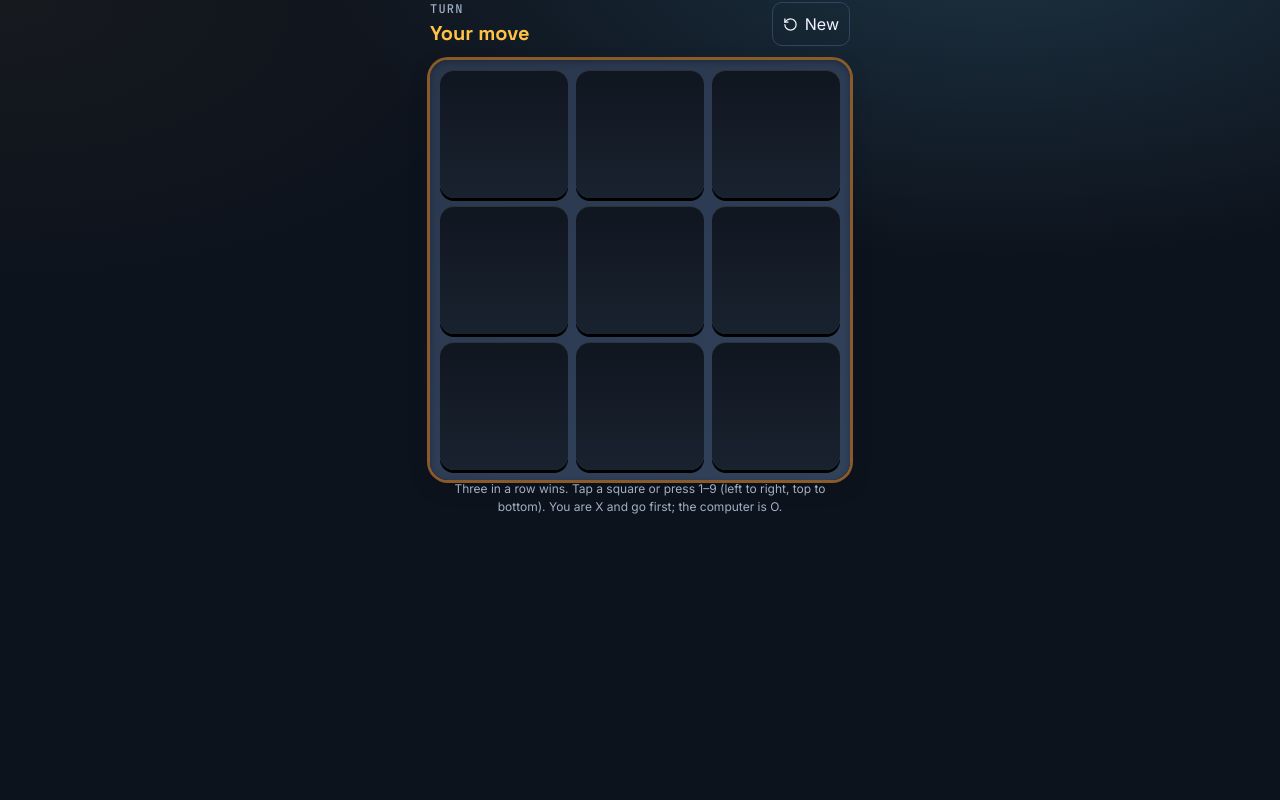
Scenario: Tic-Tac-Toe component › reports a finished game exactly once and "Play again" starts clean
This screenshot has width=1280, height=800.
Click the button named "Row 1, column 1, empty". click: (504, 134)
box: [440,70,568,198]
Wait 400 ms
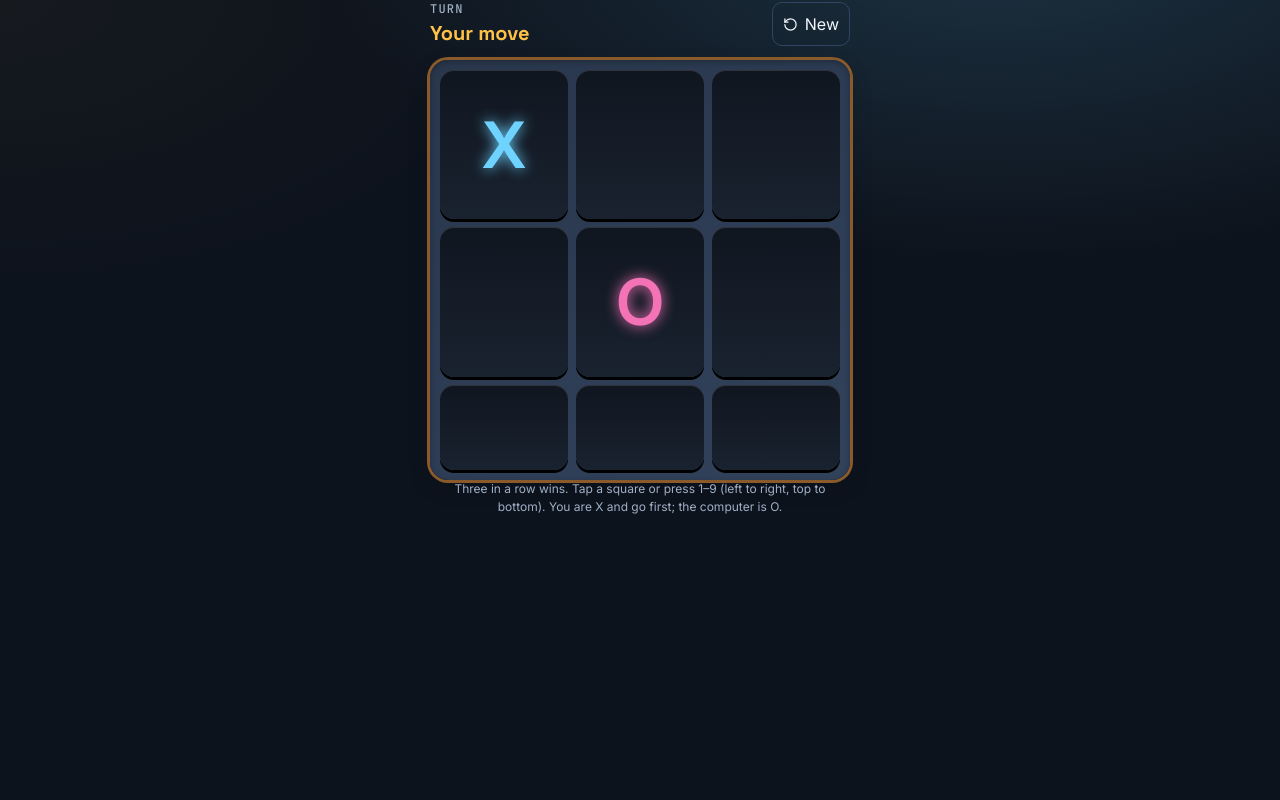
Click the button named "Row 1, column 2, empty". click: (640, 145)
box: [576,70,704,219]
Wait 400 ms
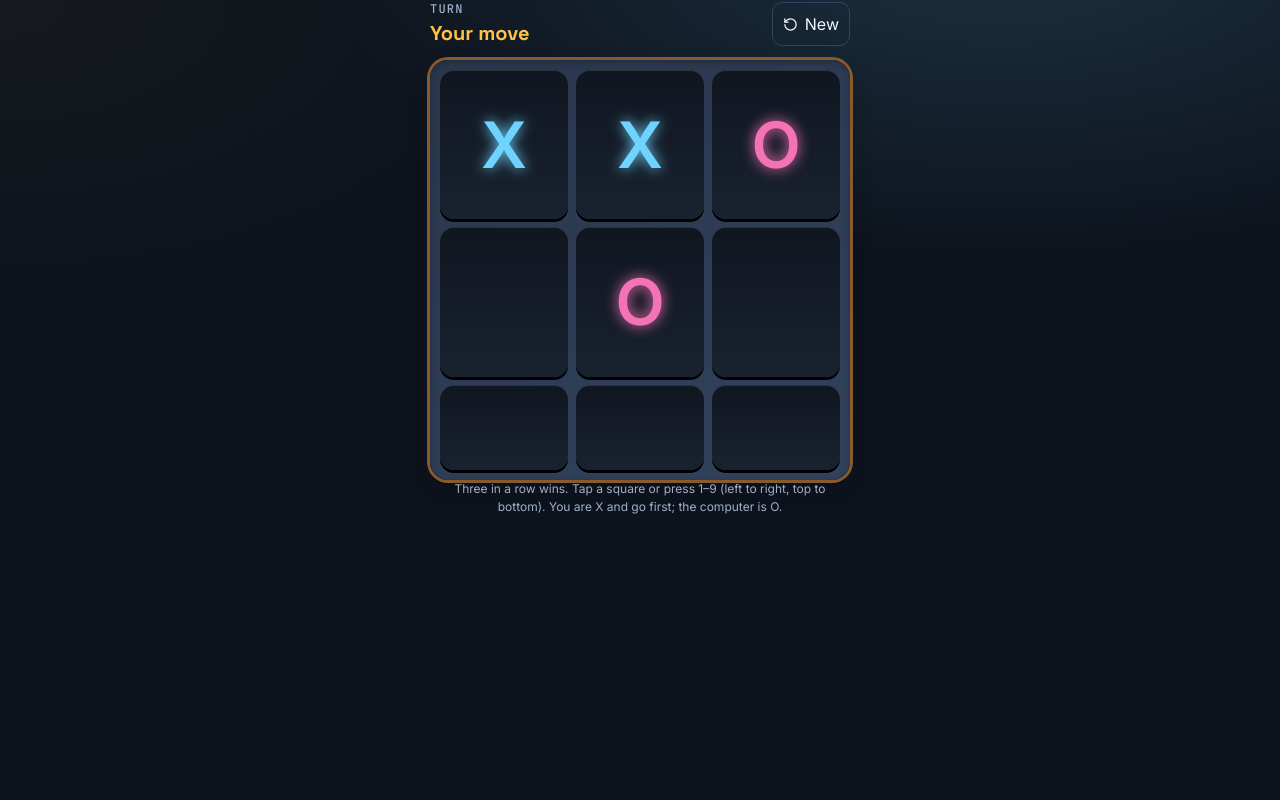
Click the button named "Row 2, column 1, empty". click: (504, 302)
box: [440,227,568,377]
Wait 10400 ms
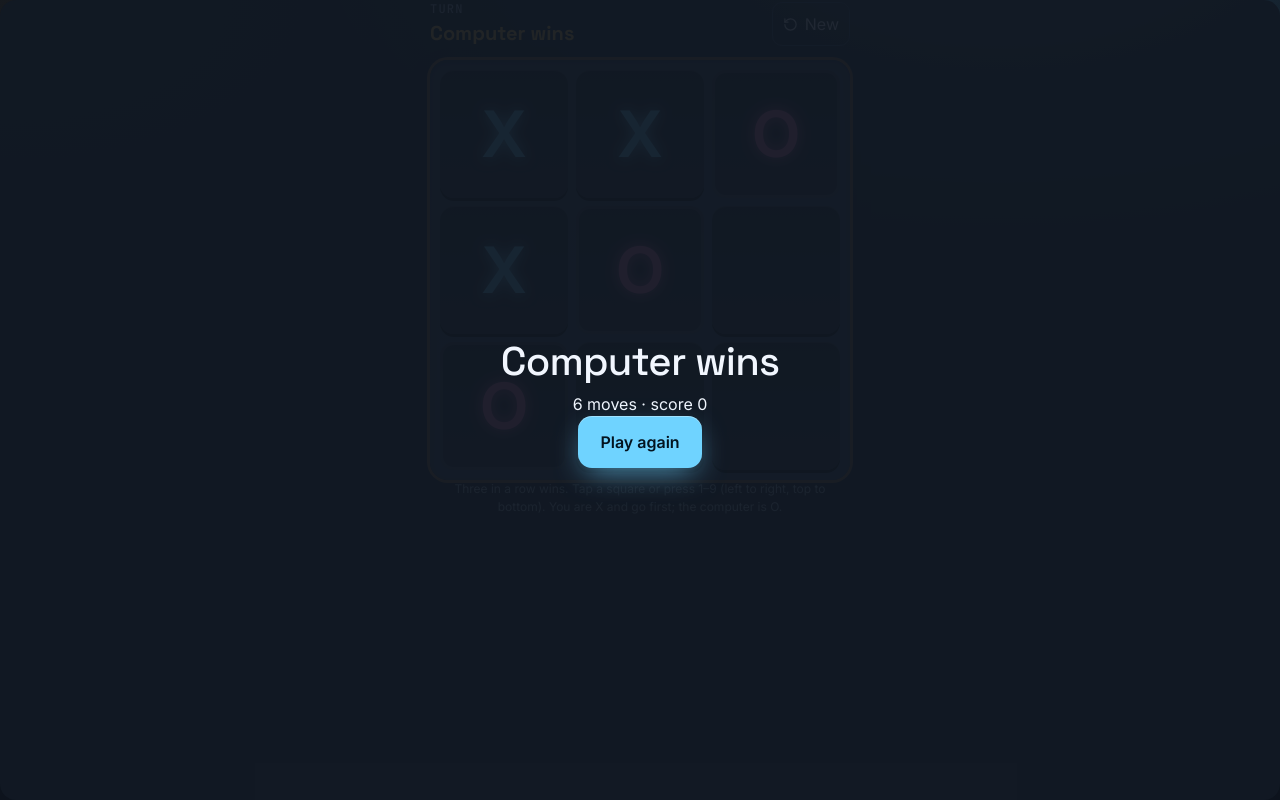
Click the button "Play again". click: (640, 442)
box: [578,416,702,468]
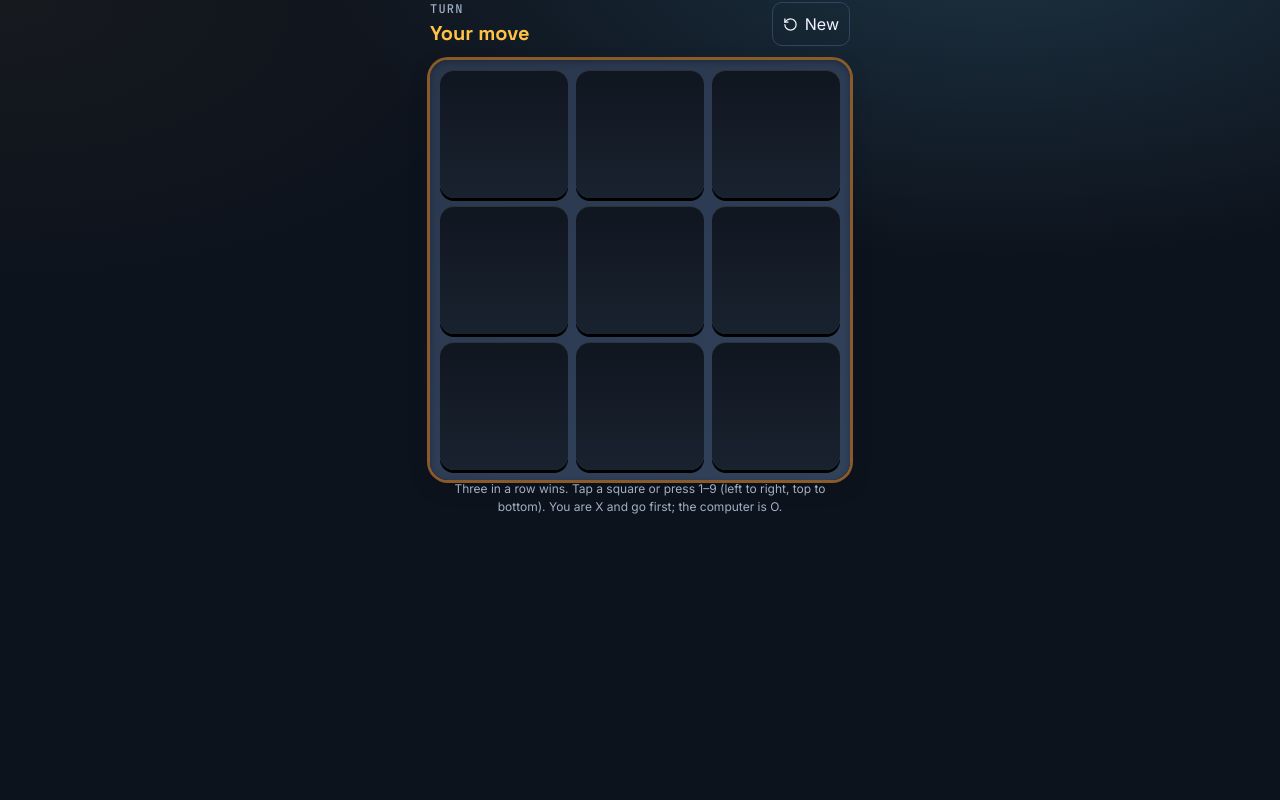
Expected: the text "Your move" is shown, [430,18,530,48]
